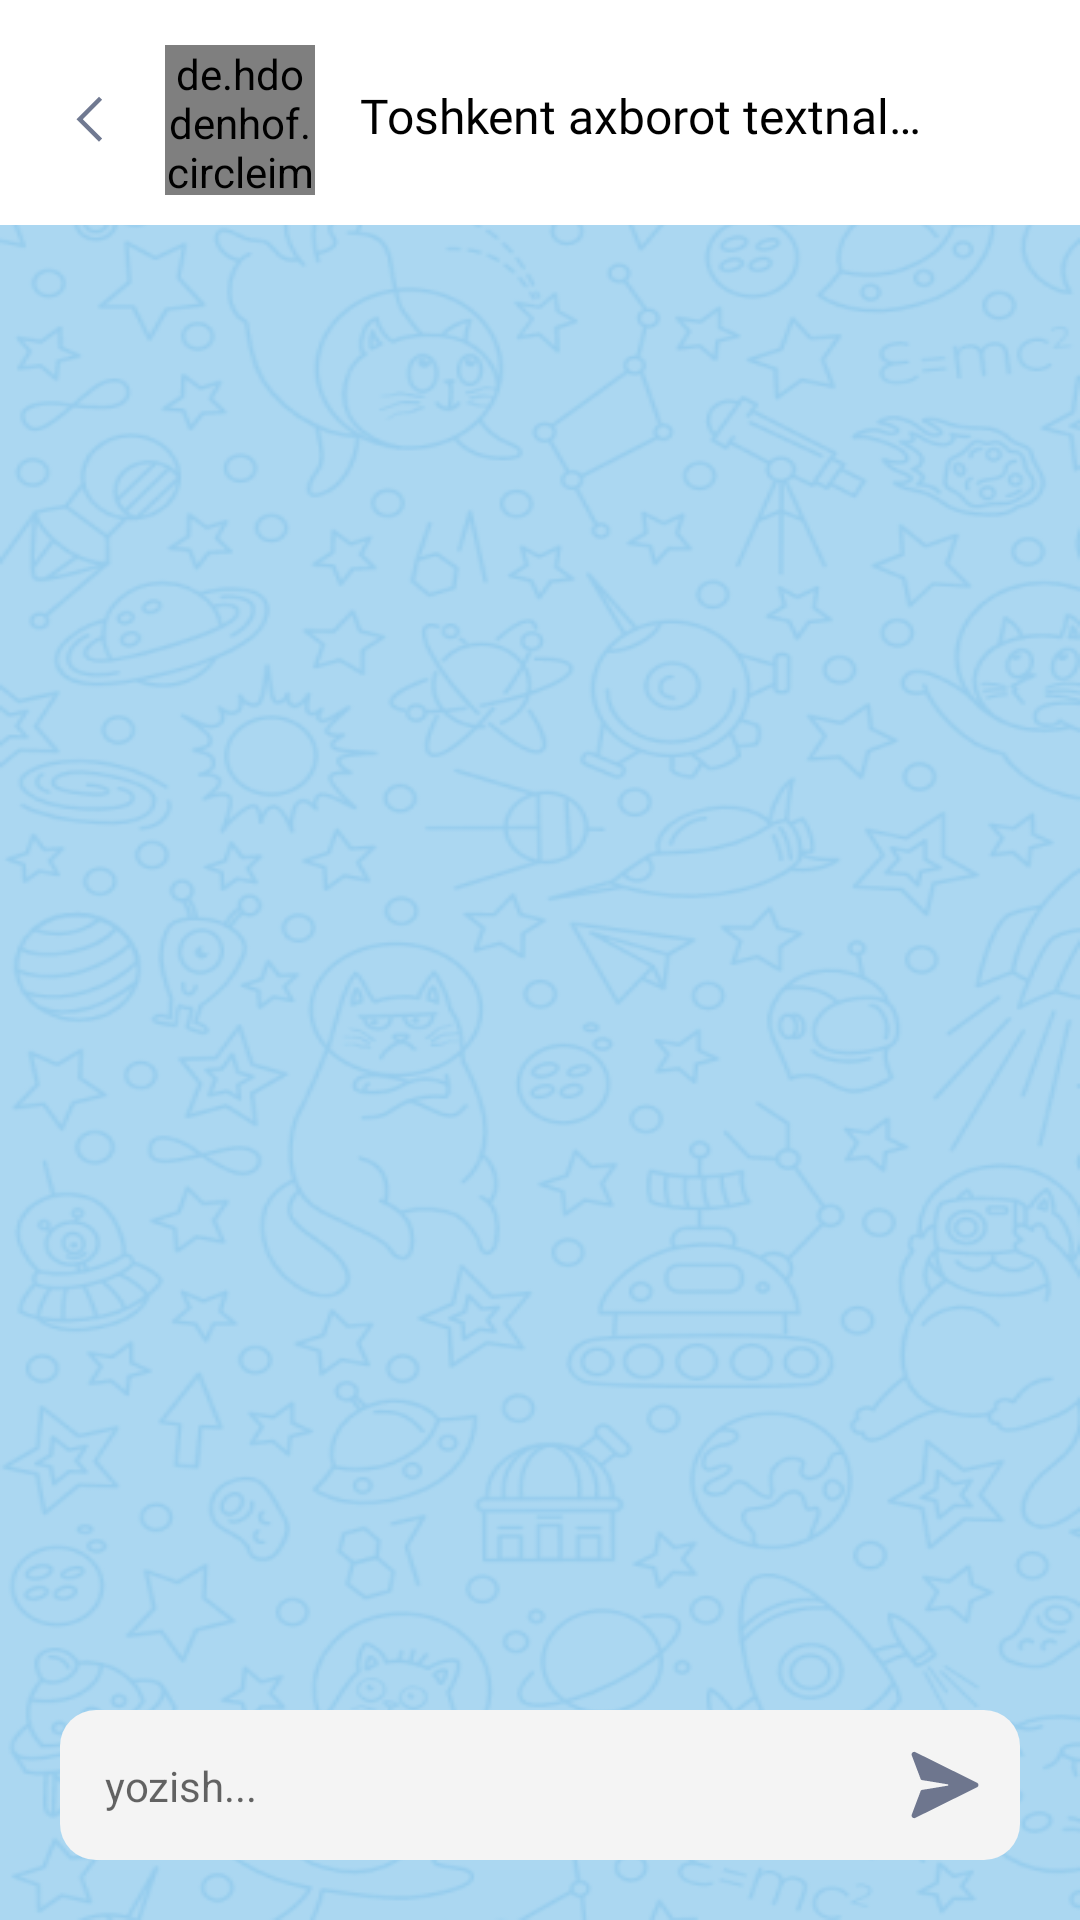

Locate icon controls on the screen. Image size 1080×1920, boxes as (x1, y1, x2, y2).
backbtn: (76, 97, 102, 142)
send: (870, 1710, 1020, 1860)
